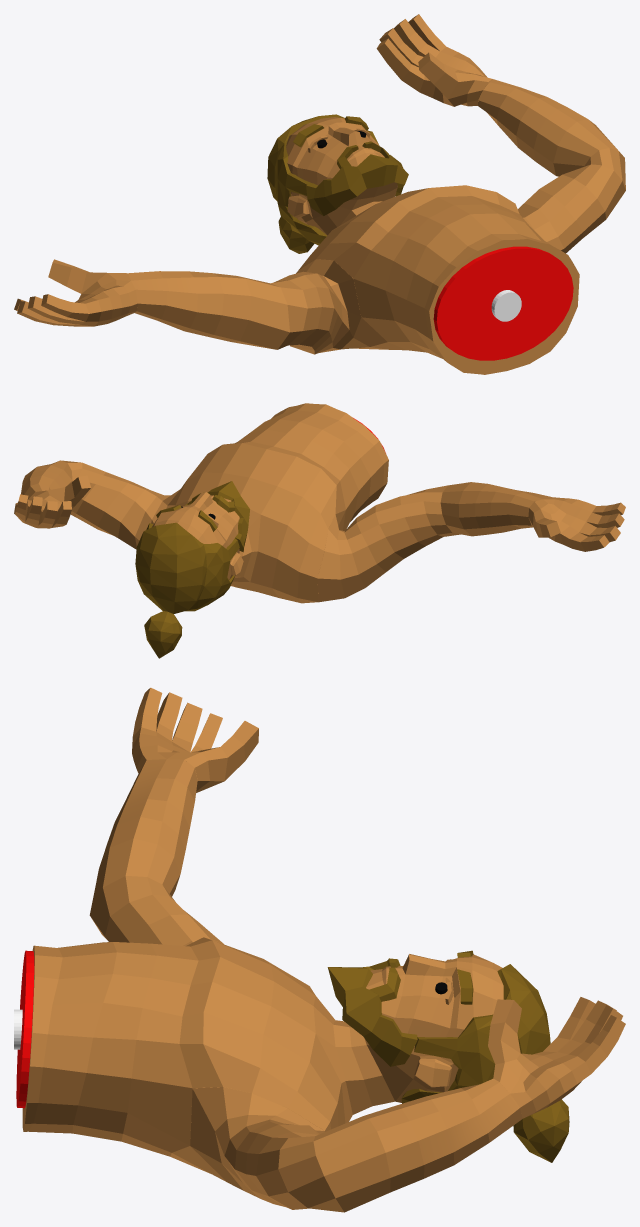
Rendered from BoddyTop.fbx.
The picture shows the model from 3 angles, top to bottom: view 1: azimuth 30°, elevation 25°; view 2: azimuth 150°, elevation 25°; view 3: azimuth 270°, elevation 25°; orthographic projection. The views are drawn at different scales.
Visible parts, largest first — view 1: Body_Arms, Body_Chest, Cylinder.001, Body_Hands, Body_Head, Hair7, Beard6, Cylinder.003; view 2: Body_Chest, Body_Arms, Hair7, Body_Hands, Body_Head, Body_Neck, Beard6; view 3: Body_Chest, Body_Arms, Body_Hands, Body_Head, Hair7, Body_Neck, Beard6, Cylinder.001, Moustache4.
Part boxes in pixels (x1,y1,x2,y2): Body_Arms: (128,79,625,354); Body_Chest: (299,185,579,374); Cylinder.001: (433,246,573,360); Body_Hands: (14,14,491,326); Body_Head: (286,117,397,235); Hair7: (267,114,379,253); Beard6: (306,154,408,215); Cylinder.003: (491,290,521,321); Body_Chest: (166,403,388,603); Body_Arms: (21,460,551,602); Hair7: (135,522,239,658); Body_Hands: (14,475,625,551); Body_Head: (152,492,243,579); Body_Neck: (233,509,260,581); Beard6: (185,481,249,552); Body_Chest: (22,937,345,1181); Body_Arms: (89,759,522,1212); Body_Hands: (132,687,625,1118); Body_Head: (365,954,503,1102); Hair7: (401,964,569,1162); Body_Neck: (313,996,394,1123); Beard6: (327,966,417,1066); Cylinder.001: (16,950,34,1108); Moustache4: (369,958,400,1001).
Bounding box in the file's own units: 14489 × 3894 × 9187.
